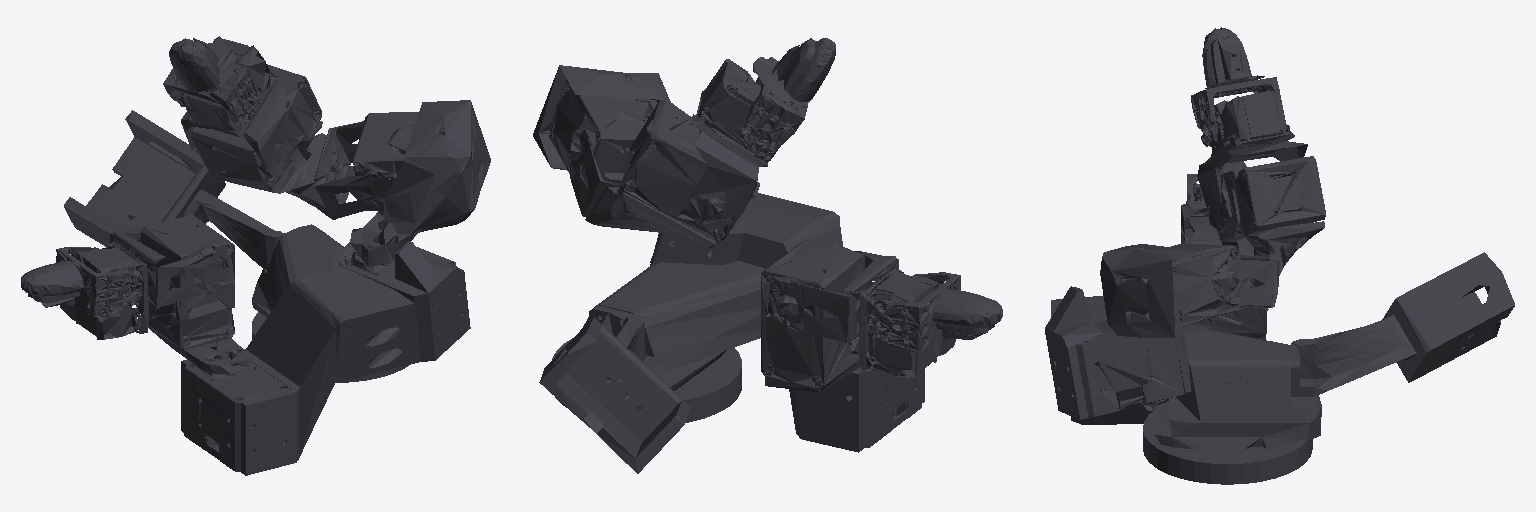
URDF robot description (ditto_follower_7dof):
<?xml version="1.0"?>
<robot name="ditto_follower_7dof">
  <!--
  DITTO 7-DoF follower hand on the xArm flange. Generated by scripts/build_ditto_hand.py from
  manipulation_env's 7_dof_assembly_urdf (SolidWorks export, joints edited to ditto's angles);
  do not edit by hand.

  mme.safety.collision appends this model to xarm7.urdf with hand_mount rigidly at link7 (the
  bare flange, before the rig's tcp_offset). hand_mount -> palm is the mount: the 10 mm connector
  (a cylinder on hand_mount) and the hand's rotation about the flange axis (see the
  script). Finger joint angles are ditto follower angles
  (rad, the DITTO service's q); limits are the follower limits of ditto's 7dof config.

  Visual meshes are decimated; collision meshes are convex hulls (the palm in parts). Pairs
  within the hand are not checked: the guard protects the hand from the arm and the table.
-->
  <material name="ditto_grey">
    <color rgba="0.30 0.30 0.33 1" />
  </material>
  <link name="hand_mount">
    <visual>
      <origin xyz="0 0 0.005" rpy="0 0 0" />
      <geometry>
        <cylinder radius="0.0375" length="0.01" />
      </geometry>
      <material name="ditto_grey" />
    </visual>
    <collision>
      <origin xyz="0 0 0.005" rpy="0 0 0" />
      <geometry>
        <cylinder radius="0.0375" length="0.01" />
      </geometry>
    </collision>
  </link>
  <joint name="hand_mount_to_palm" type="fixed">
    <origin xyz="0 0 0.01" rpy="0 1.570796327 1.570796327" />
    <parent link="hand_mount" />
    <child link="palm" />
  </joint>
  <link name="palm">
    <inertial>
      <origin xyz="-0.0154696232096144 -0.0201884369334062 -0.0192844443455349" rpy="0 0 0" />
      <mass value="0.410878568193224" />
      <inertia ixx="0.000451654291588827" ixy="-4.95560294365629E-06" ixz="3.04867124276104E-05" iyy="0.000205425039419282" iyz="-3.15219094778049E-05" izz="0.000344481899945397" />
    </inertial>
    <visual>
      <origin xyz="0 0 0" rpy="0 0 0" />
      <geometry>
        <mesh filename="meshes/visual/palm.stl" />
      </geometry>
      <material name="ditto_grey" />
    </visual>
    <collision>
      <origin xyz="0 0 0" rpy="0 0 0" />
      <geometry>
        <mesh filename="meshes/collision/palm_0.stl" />
      </geometry>
    </collision>
    <collision>
      <origin xyz="0 0 0" rpy="0 0 0" />
      <geometry>
        <mesh filename="meshes/collision/palm_1.stl" />
      </geometry>
    </collision>
    <collision>
      <origin xyz="0 0 0" rpy="0 0 0" />
      <geometry>
        <mesh filename="meshes/collision/palm_2.stl" />
      </geometry>
    </collision>
    <collision>
      <origin xyz="0 0 0" rpy="0 0 0" />
      <geometry>
        <mesh filename="meshes/collision/palm_3.stl" />
      </geometry>
    </collision>
    <collision>
      <origin xyz="0 0 0" rpy="0 0 0" />
      <geometry>
        <mesh filename="meshes/collision/palm_4.stl" />
      </geometry>
    </collision>
    <collision>
      <origin xyz="0 0 0" rpy="0 0 0" />
      <geometry>
        <mesh filename="meshes/collision/palm_5.stl" />
      </geometry>
    </collision>
    <collision>
      <origin xyz="0 0 0" rpy="0 0 0" />
      <geometry>
        <mesh filename="meshes/collision/palm_6.stl" />
      </geometry>
    </collision>
    <collision>
      <origin xyz="0 0 0" rpy="0 0 0" />
      <geometry>
        <mesh filename="meshes/collision/palm_7.stl" />
      </geometry>
    </collision>
  </link>
  <link name="index1_to_index2">
    <inertial>
      <origin xyz="-0.0251194543387539 0.0293734022690643 6.70741240327288E-12" rpy="0 0 0" />
      <mass value="0.0497434445179812" />
      <inertia ixx="8.52741741705442E-06" ixy="6.65674001605425E-11" ixz="5.24549612354128E-15" iyy="1.08030273393745E-05" iyz="8.83391836515191E-17" izz="1.32768861582985E-05" />
    </inertial>
    <visual>
      <origin xyz="0 0 0" rpy="0 0 0" />
      <geometry>
        <mesh filename="meshes/visual/index1_to_index2.stl" />
      </geometry>
      <material name="ditto_grey" />
    </visual>
    <collision>
      <origin xyz="0 0 0" rpy="0 0 0" />
      <geometry>
        <mesh filename="meshes/collision/index1_to_index2.stl" />
      </geometry>
    </collision>
  </link>
  <link name="index2_to_index3">
    <inertial>
      <origin xyz="-0.0146228621743154 0.0370581127547467 0.00599502259112958" rpy="0 0 0" />
      <mass value="0.0205573804983002" />
      <inertia ixx="2.42925806188438E-06" ixy="8.4018263004473E-11" ixz="-2.65993226749572E-09" iyy="2.83745518654902E-06" iyz="-1.37857351484818E-09" izz="1.79006054040601E-06" />
    </inertial>
    <visual>
      <origin xyz="0 0 0" rpy="0 0 0" />
      <geometry>
        <mesh filename="meshes/visual/index2_to_index3.stl" />
      </geometry>
      <material name="ditto_grey" />
    </visual>
    <collision>
      <origin xyz="0 0 0" rpy="0 0 0" />
      <geometry>
        <mesh filename="meshes/collision/index2_to_index3.stl" />
      </geometry>
    </collision>
  </link>
  <link name="index_fingertip">
    <inertial>
      <origin xyz="-0.0216978321479437 5.84339520038474E-06 -0.0144548214131112" rpy="0 0 0" />
      <mass value="0.0100366618592376" />
      <inertia ixx="8.97015678974887E-07" ixy="-1.54707435874872E-08" ixz="6.93072957951291E-13" iyy="1.02417191874685E-06" iyz="-1.81768349405465E-13" izz="5.87465735866875E-07" />
    </inertial>
    <visual>
      <origin xyz="0 0 0" rpy="0 0 0" />
      <geometry>
        <mesh filename="meshes/visual/index_fingertip.stl" />
      </geometry>
      <material name="ditto_grey" />
    </visual>
    <collision>
      <origin xyz="0 0 0" rpy="0 0 0" />
      <geometry>
        <mesh filename="meshes/collision/index_fingertip.stl" />
      </geometry>
    </collision>
  </link>
  <link name="thumb1_to_thumb2">
    <inertial>
      <origin xyz="-0.0748051735444831 -0.00846635465465218 0.0247229163412058" rpy="0 0 0" />
      <mass value="0.0727331809316961" />
      <inertia ixx="2.32534675929854E-05" ixy="-7.52577861320989E-07" ixz="3.81128150532197E-06" iyy="2.27305755475662E-05" iyz="1.86053734834853E-06" izz="1.75857485974341E-05" />
    </inertial>
    <visual>
      <origin xyz="0 0 0" rpy="0 0 0" />
      <geometry>
        <mesh filename="meshes/visual/thumb1_to_thumb2.stl" />
      </geometry>
      <material name="ditto_grey" />
    </visual>
    <collision>
      <origin xyz="0 0 0" rpy="0 0 0" />
      <geometry>
        <mesh filename="meshes/collision/thumb1_to_thumb2.stl" />
      </geometry>
    </collision>
  </link>
  <link name="thumb2_to_thumb3">
    <inertial>
      <origin xyz="-0.0451053923418328 0.0289382583910157 -0.0367223979849043" rpy="0 0 0" />
      <mass value="0.0659842999100208" />
      <inertia ixx="1.46487382758314E-05" ixy="1.26812047788793E-06" ixz="1.67568412531889E-06" iyy="1.69340097348714E-05" iyz="8.43958285541791E-07" izz="1.1801455641719E-05" />
    </inertial>
    <visual>
      <origin xyz="0 0 0" rpy="0 0 0" />
      <geometry>
        <mesh filename="meshes/visual/thumb2_to_thumb3.stl" />
      </geometry>
      <material name="ditto_grey" />
    </visual>
    <collision>
      <origin xyz="0 0 0" rpy="0 0 0" />
      <geometry>
        <mesh filename="meshes/collision/thumb2_to_thumb3.stl" />
      </geometry>
    </collision>
  </link>
  <link name="thumb3_to_thumb4">
    <inertial>
      <origin xyz="-0.0263832193019674 0.0291125491386327 -0.00630163000237206" rpy="0 0 0" />
      <mass value="0.0235866603233478" />
      <inertia ixx="2.8448628926347E-06" ixy="-1.02810120169448E-10" ixz="2.67111134765574E-09" iyy="3.81202355671047E-06" iyz="1.2780503953776E-07" izz="2.70747167103813E-06" />
    </inertial>
    <visual>
      <origin xyz="0 0 0" rpy="0 0 0" />
      <geometry>
        <mesh filename="meshes/visual/thumb3_to_thumb4.stl" />
      </geometry>
      <material name="ditto_grey" />
    </visual>
    <collision>
      <origin xyz="0 0 0" rpy="0 0 0" />
      <geometry>
        <mesh filename="meshes/collision/thumb3_to_thumb4.stl" />
      </geometry>
    </collision>
  </link>
  <link name="thumb_fingertip">
    <inertial>
      <origin xyz="-0.0216979986829285 5.85329304272908E-06 0.0212731529451719" rpy="0 0 0" />
      <mass value="0.0100367274233777" />
      <inertia ixx="8.97016067476087E-07" ixy="-1.54758344261563E-08" ixz="1.92970208162454E-12" iyy="1.02418420349222E-06" iyz="3.11855698593798E-13" izz="5.87477448112808E-07" />
    </inertial>
    <visual>
      <origin xyz="0 0 0" rpy="0 0 0" />
      <geometry>
        <mesh filename="meshes/visual/thumb_fingertip.stl" />
      </geometry>
      <material name="ditto_grey" />
    </visual>
    <collision>
      <origin xyz="0 0 0" rpy="0 0 0" />
      <geometry>
        <mesh filename="meshes/collision/thumb_fingertip.stl" />
      </geometry>
    </collision>
  </link>
  <link name="ftip_index">
    <inertial>
      <origin xyz="0 0 0" rpy="0 0 0" />
      <mass value="1e-6" />
      <inertia ixx="1e-12" ixy="0" ixz="0" iyy="1e-12" iyz="0" izz="1e-12" />
    </inertial>
  </link>
  <link name="ftip_thumb">
    <inertial>
      <origin xyz="0 0 0" rpy="0 0 0" />
      <mass value="1e-6" />
      <inertia ixx="1e-12" ixy="0" ixz="0" iyy="1e-12" iyz="0" izz="1e-12" />
    </inertial>
  </link>
  <joint name="index1" type="revolute">
    <origin xyz="-0.01165 0.075 -0.03" rpy="1.55668827 0 0" />
    <parent link="palm" />
    <child link="index1_to_index2" />
    <axis xyz="-1 0 0" />
    <limit lower="-0.226893" upper="0.418879" effort="10" velocity="4.8" />
  </joint>
  <joint name="index2" type="revolute">
    <origin xyz="-0.03925 0.01554521661 0" rpy="-1.574509941 0 -1.570796327" />
    <parent link="index1_to_index2" />
    <child link="index2_to_index3" />
    <axis xyz="-1 0 0" />
    <limit lower="-0.174533" upper="1.570796" effort="10" velocity="4.8" />
  </joint>
  <joint name="index3" type="revolute">
    <origin xyz="0 0.041 0" rpy="-1.570796327 -0.05669755072 -1.570796327" />
    <parent link="index2_to_index3" />
    <child link="index_fingertip" />
    <axis xyz="0 0 -1" />
    <limit lower="-0.174533" upper="1.570796" effort="10" velocity="4.8" />
  </joint>
  <joint name="thumb1" type="revolute">
    <origin xyz="-0.004664899149 -0.00658226647 -0.03115806394" rpy="1.251171956 0.05398748558 -0.06387563526" />
    <parent link="palm" />
    <child link="thumb1_to_thumb2" />
    <axis xyz="-0.9668080866 -0.1664166548 -0.1938752707" />
    <limit lower="-0.436332" upper="0.523599" effort="10" velocity="4.8" />
  </joint>
  <joint name="thumb2" type="revolute">
    <origin xyz="-0.06617265419 -0.01139029752 -0.01326968757" rpy="2.972215683 -0.5494800224 -0.7721692054" />
    <parent link="thumb1_to_thumb2" />
    <child link="thumb2_to_thumb3" />
    <axis xyz="0 0 -1" />
    <limit lower="-1.570796" upper="-0.349066" effort="10" velocity="4.8" />
  </joint>
  <joint name="thumb3" type="revolute">
    <origin xyz="-0.02876021708 0.03078277206 -0.01432133442" rpy="0.270483334 -0.4177215848 -0.2274555382" />
    <parent link="thumb2_to_thumb3" />
    <child link="thumb3_to_thumb4" />
    <axis xyz="-1 0 0" />
    <limit lower="-1.570796" upper="0.174533" effort="10" velocity="4.8" />
  </joint>
  <joint name="thumb4" type="revolute">
    <origin xyz="-0.004963645044 0.035 0" rpy="1.570796327 0 -1.570796327" />
    <parent link="thumb3_to_thumb4" />
    <child link="thumb_fingertip" />
    <axis xyz="0 0 1" />
    <limit lower="-1.570796" upper="0.174533" effort="10" velocity="4.8" />
  </joint>
  <joint name="index_fingertip_to_ftip_index" type="fixed">
    <origin xyz="-0.035 0.01 -0.015" rpy="1.570796327 0 3.141592654" />
    <parent link="index_fingertip" />
    <child link="ftip_index" />
  </joint>
  <joint name="thumb_fingertip_to_ftip_thumb" type="fixed">
    <origin xyz="-0.035 0.01 0.021" rpy="1.570796327 0 3.141592654" />
    <parent link="thumb_fingertip" />
    <child link="ftip_thumb" />
  </joint>
</robot>

--- Facts derived from the render (not from the file) ---
The picture shows the robot from 3 angles, left to right: view 1: azimuth 30°, elevation 25°; view 2: azimuth 150°, elevation 25°; view 3: azimuth 270°, elevation 25°; orthographic projection.
Robot: ditto_follower_7dof — 11 links, 10 joints (7 revolute, 3 fixed); root link hand_mount; default pose: joints at zero except 1 at the middle of their limits (thumb2 = -0.9599).
Links seen in each view (by area): view 1: palm, thumb1_to_thumb2, thumb2_to_thumb3, index1_to_index2, index2_to_index3, thumb3_to_thumb4, index_fingertip, thumb_fingertip; view 2: palm, thumb2_to_thumb3, index1_to_index2, thumb1_to_thumb2, index2_to_index3, thumb3_to_thumb4, index_fingertip, thumb_fingertip, hand_mount; view 3: palm, thumb2_to_thumb3, thumb1_to_thumb2, thumb3_to_thumb4, hand_mount, thumb_fingertip, index1_to_index2, index2_to_index3.
Boxes of the visible links, bbox=[...] form: palm: bbox=[64, 110, 470, 475]; thumb1_to_thumb2: bbox=[350, 100, 490, 266]; thumb2_to_thumb3: bbox=[191, 64, 384, 219]; index1_to_index2: bbox=[141, 215, 249, 373]; index2_to_index3: bbox=[76, 220, 215, 339]; thumb3_to_thumb4: bbox=[180, 36, 293, 177]; index_fingertip: bbox=[21, 247, 142, 321]; thumb_fingertip: bbox=[163, 38, 258, 124]; palm: bbox=[539, 182, 924, 473]; thumb2_to_thumb3: bbox=[568, 99, 753, 247]; index1_to_index2: bbox=[761, 239, 864, 391]; thumb1_to_thumb2: bbox=[533, 65, 670, 188]; index2_to_index3: bbox=[783, 244, 938, 377]; thumb3_to_thumb4: bbox=[690, 59, 788, 229]; index_fingertip: bbox=[866, 272, 1002, 355]; thumb_fingertip: bbox=[740, 38, 835, 155]; hand_mount: bbox=[552, 338, 741, 422]; palm: bbox=[1045, 252, 1514, 449]; thumb2_to_thumb3: bbox=[1209, 156, 1325, 310]; thumb1_to_thumb2: bbox=[1100, 243, 1243, 337]; thumb3_to_thumb4: bbox=[1197, 90, 1307, 230]; hand_mount: bbox=[1143, 410, 1312, 484]; thumb_fingertip: bbox=[1191, 27, 1279, 146]; index1_to_index2: bbox=[1184, 217, 1266, 339]; index2_to_index3: bbox=[1181, 187, 1209, 243].
Bounding box of the posed robot: 0.2253 × 0.2078 × 0.1841 m (x, y, z).
Meshes: 8 distinct files referenced, 8 mesh visuals loaded (8 binary STL).
